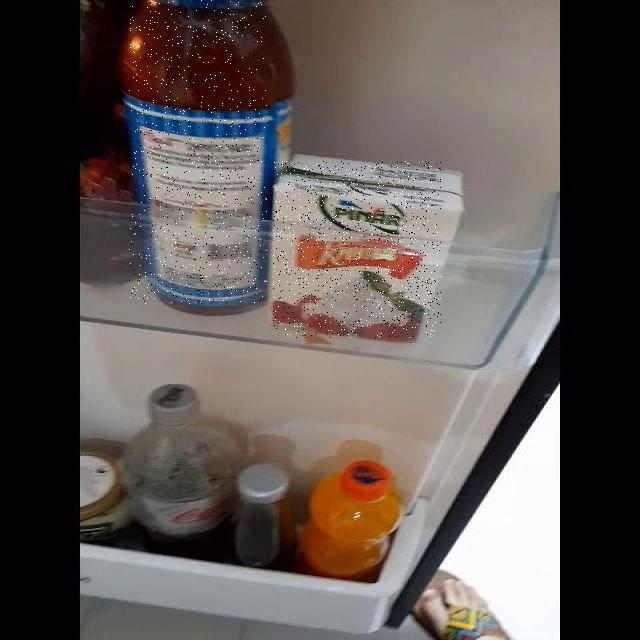cream: (274, 161, 442, 338)
sauce: (129, 0, 267, 304)
